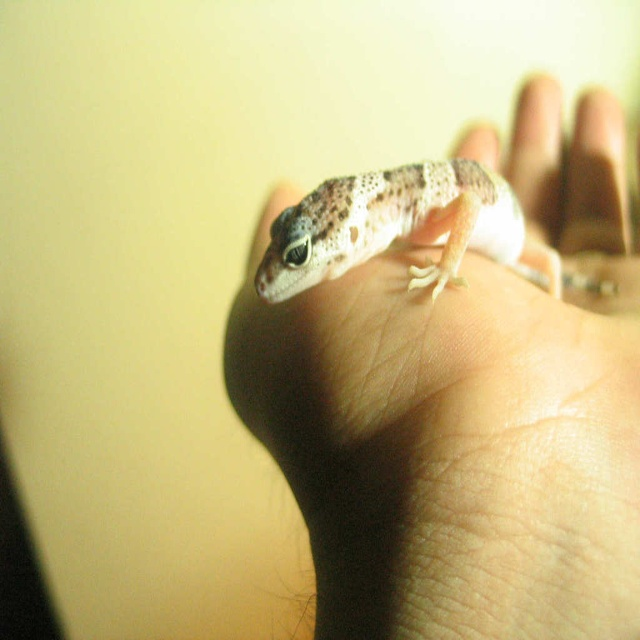Lizard: (252, 162, 614, 304)
